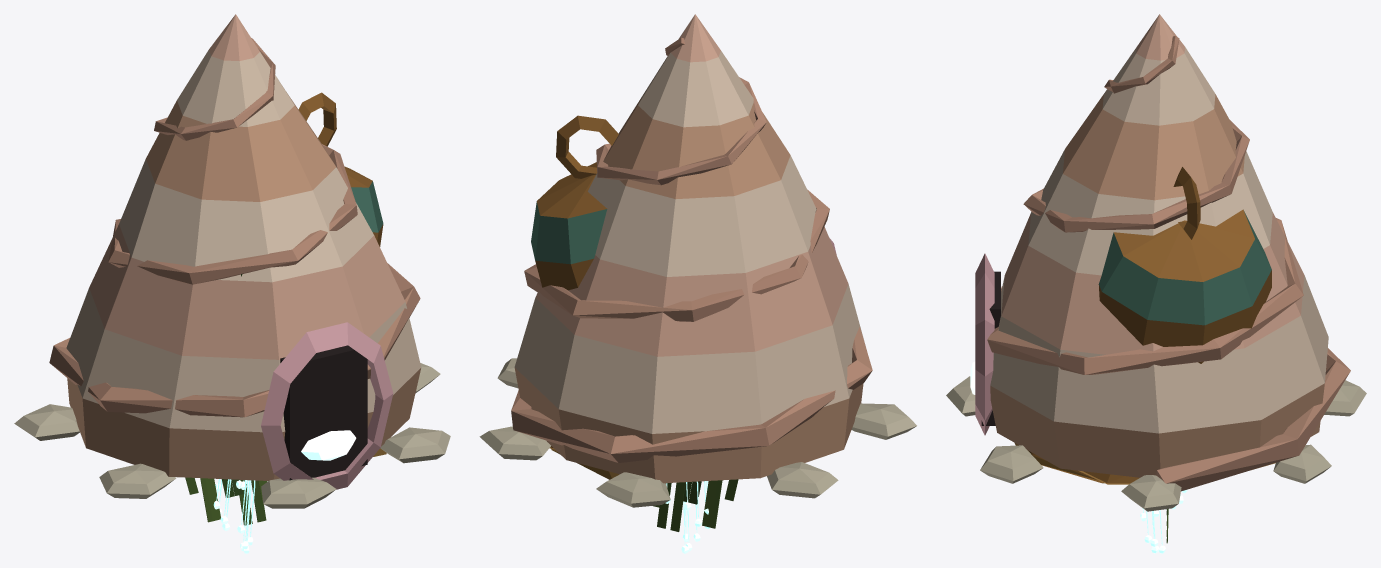
Rendered from grotto.glb.
The picture shows the model from 3 angles, left to right: view 1: azimuth 30°, elevation 25°; view 2: azimuth 150°, elevation 25°; view 3: azimuth 270°, elevation 25°; orthographic projection.
Parts seen in each view (by area): view 1: grotto_giant_shell_a, grotto_sunken_bell_a, grotto_kelp_drape_a, grotto_kelp_drape_b, grotto_glow_strands_b; view 2: grotto_giant_shell_a, grotto_sunken_bell_a, grotto_kelp_drape_b, grotto_kelp_drape_a; view 3: grotto_giant_shell_a, grotto_sunken_bell_a.
Part boxes in pixels (x1,y1,x2,y2): grotto_giant_shell_a: (49, 14, 421, 489); grotto_sunken_bell_a: (14, 92, 450, 508); grotto_kelp_drape_a: (185, 477, 266, 522); grotto_kelp_drape_b: (200, 478, 267, 525); grotto_glow_strands_b: (213, 479, 255, 551); grotto_giant_shell_a: (511, 14, 872, 483); grotto_sunken_bell_a: (479, 115, 916, 507); grotto_kelp_drape_b: (653, 480, 722, 531); grotto_kelp_drape_a: (657, 479, 738, 528); grotto_giant_shell_a: (970, 14, 1350, 491); grotto_sunken_bell_a: (946, 167, 1366, 511).
Bounding box in the file's own units: 2.64 × 3.66 × 2.61.
